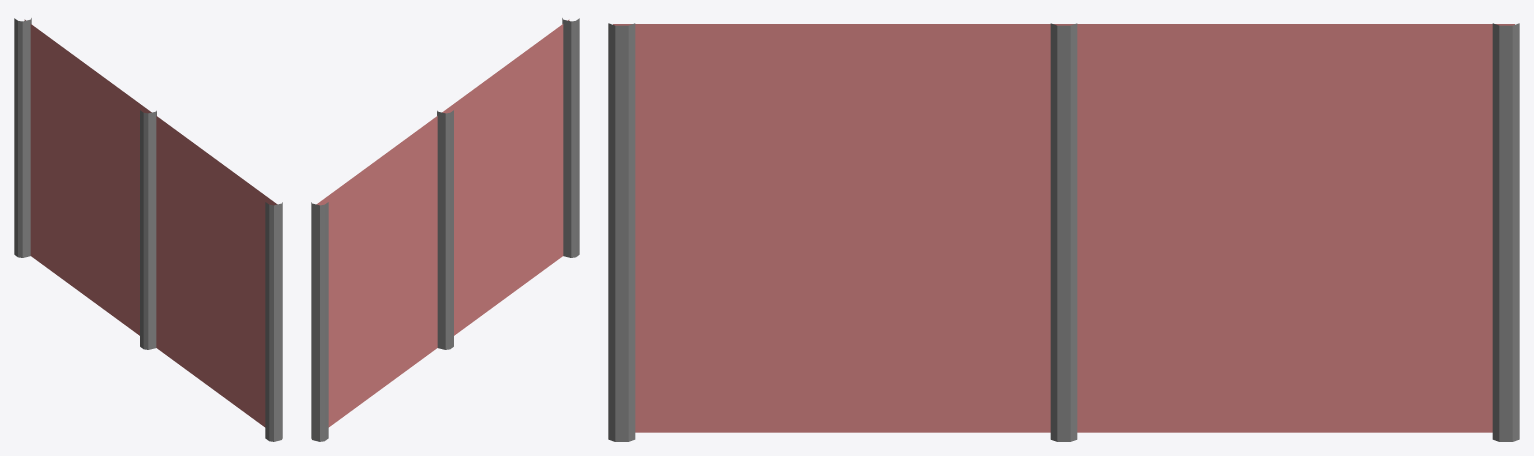
Rendered from S_Envi_Umeda_Module_05b.gltf.
The picture shows the model from 3 angles, left to right: view 1: azimuth 30°, elevation 25°; view 2: azimuth 150°, elevation 25°; view 3: azimuth 270°, elevation 25°; orthographic projection. The views are drawn at different scales.
Parts seen in each view (by area): view 1: S_Envi_Umeda_Module_05b; view 2: S_Envi_Umeda_Module_05b; view 3: S_Envi_Umeda_Module_05b.
Boxes of the visible parts, left/top/right/bottom form: S_Envi_Umeda_Module_05b: left=14, top=18, right=282, bottom=441; S_Envi_Umeda_Module_05b: left=311, top=18, right=579, bottom=441; S_Envi_Umeda_Module_05b: left=608, top=23, right=1519, bottom=441.
Bounding box in the file's own units: 0.1215 × 2.04 × 4.04.
